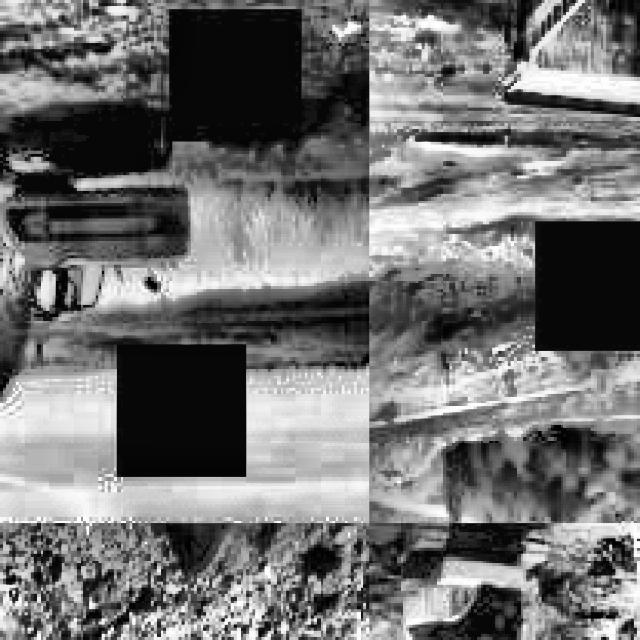excavator: (0, 114, 188, 501), (381, 523, 637, 640)
